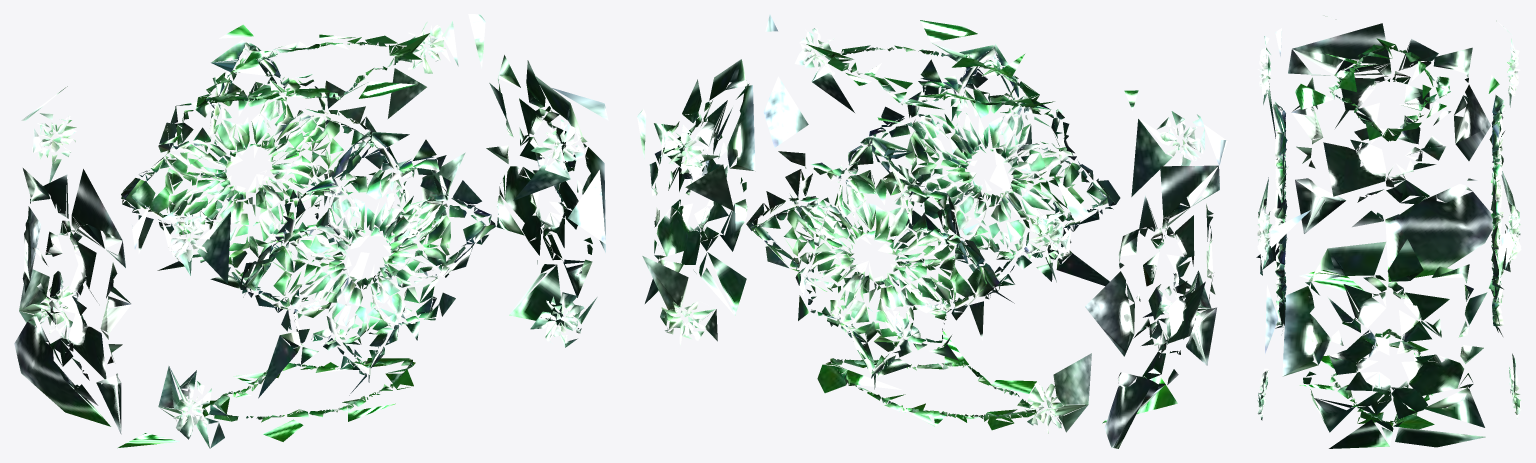
File: glowing_green.glb
3 renders of one model, left to right at view 1: azimuth 30°, elevation 25°; view 2: azimuth 150°, elevation 25°; view 3: azimuth 270°, elevation 25°, orthographic. The views are drawn at different scales.
Visible parts, largest first — view 1: Mesh_0; view 2: Mesh_0; view 3: Mesh_0.
Boxes of the visible parts, x1,y1,x2,y2 form: Mesh_0: [14, 14, 608, 448]; Mesh_0: [637, 14, 1227, 448]; Mesh_0: [1256, 16, 1521, 448].
Size of the model in its own units: 1.52 by 0.9869 by 0.7717.
1 material, 1 textured.
